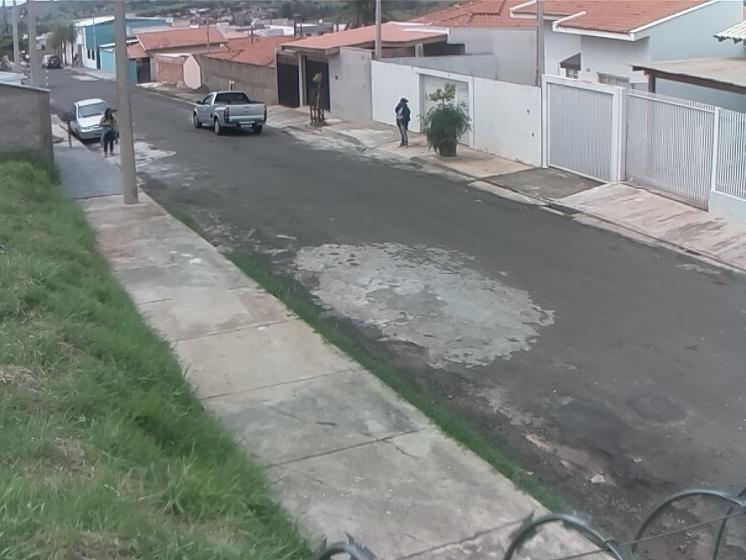person: (98, 107, 120, 160), (393, 97, 412, 151)
